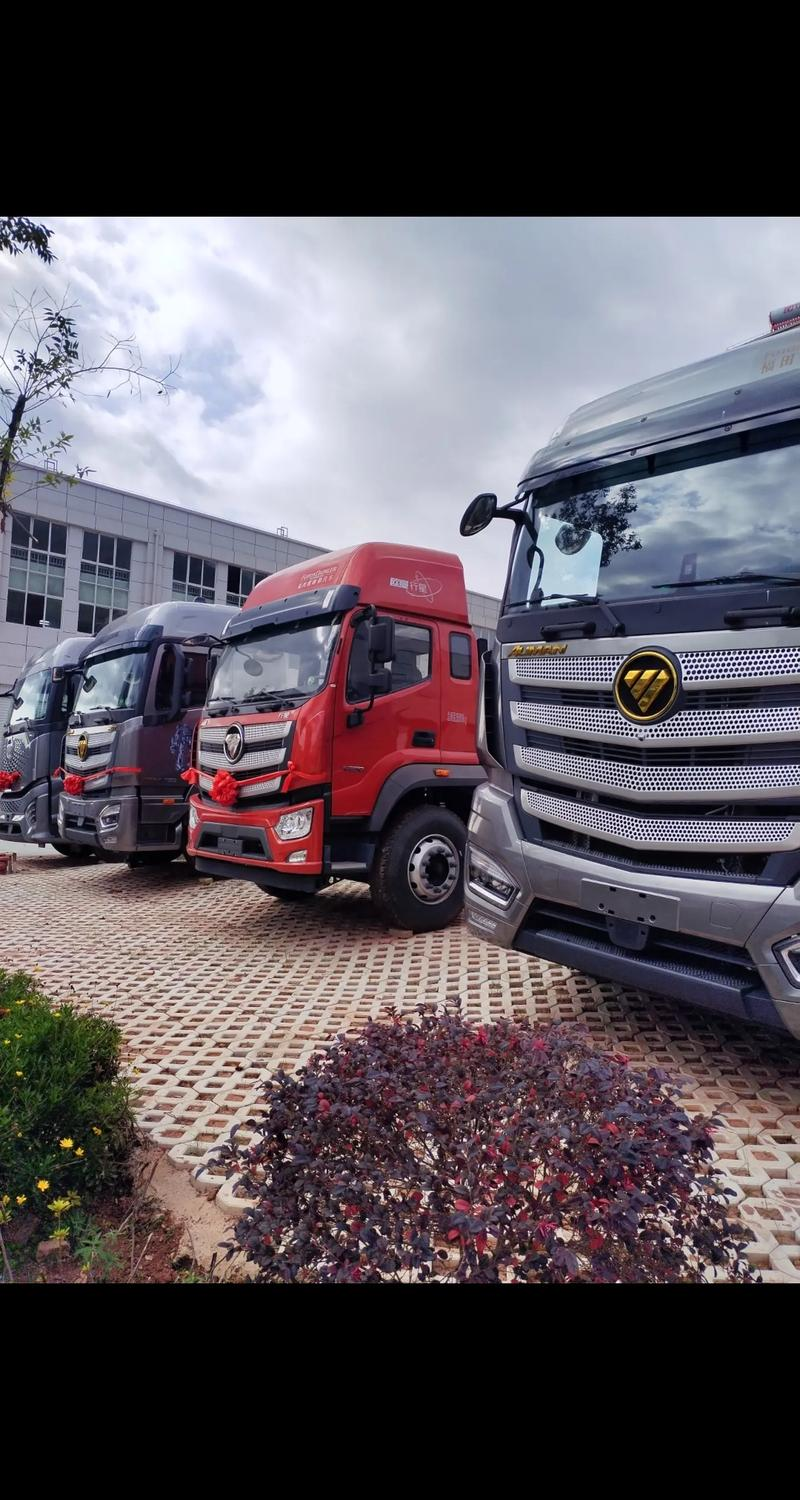卡车: (476, 354, 800, 1060), (196, 531, 472, 955)
